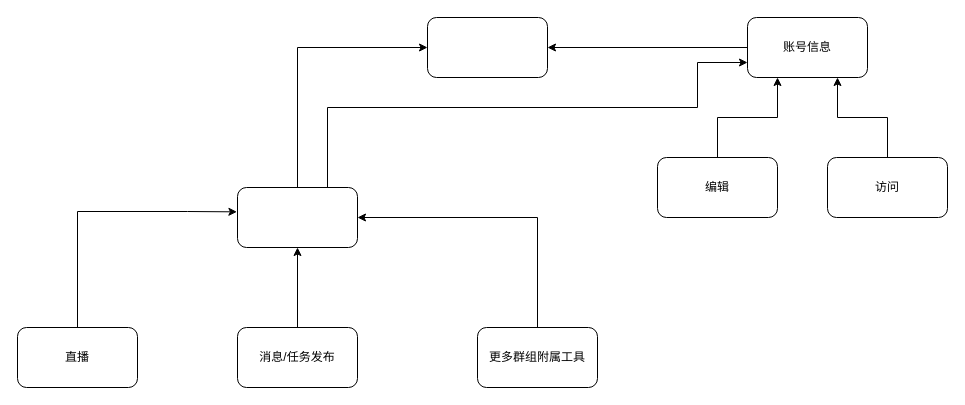
Image size: 965x405. Some labels were removed from this diagram. Each missing label, with the centre of its shape:
"群组管理" belongs at pixel 297 217.
"账号管理" belongs at pixel 487 47.
